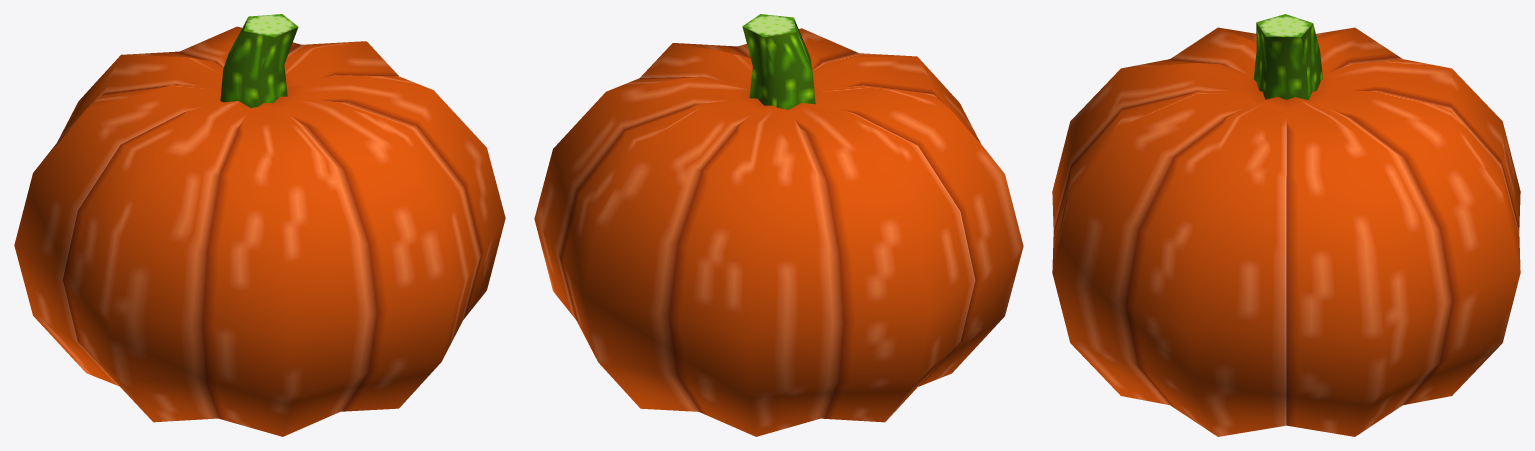
Rendered from pumpkin.fbx.
3 renders of one model, left to right at view 1: azimuth 30°, elevation 25°; view 2: azimuth 150°, elevation 25°; view 3: azimuth 270°, elevation 25°, orthographic. The views are drawn at different scales.
Visible parts, largest first — view 1: Sphere; view 2: Sphere; view 3: Sphere.
Part boxes in pixels (<box>): Sphere: <box>14,14,505,436</box>; Sphere: <box>534,14,1023,436</box>; Sphere: <box>1052,14,1520,436</box>.
Size of the model in its own units: 286 by 241 by 286.
